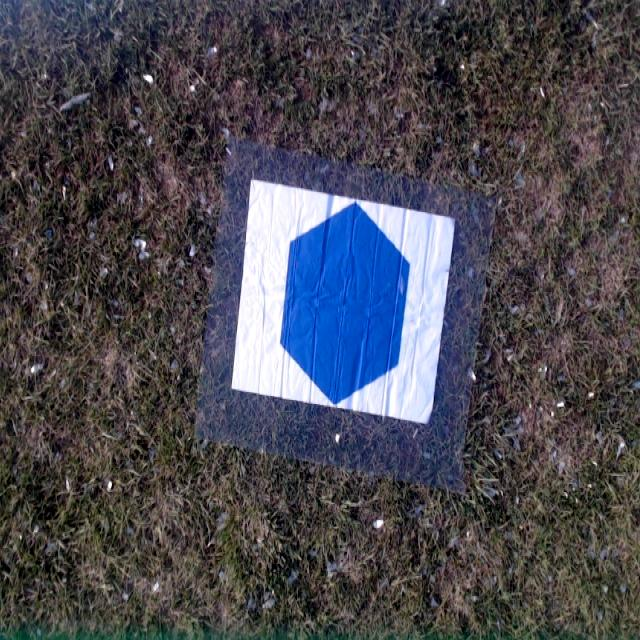blue_hexagon: (281, 202, 409, 408)
